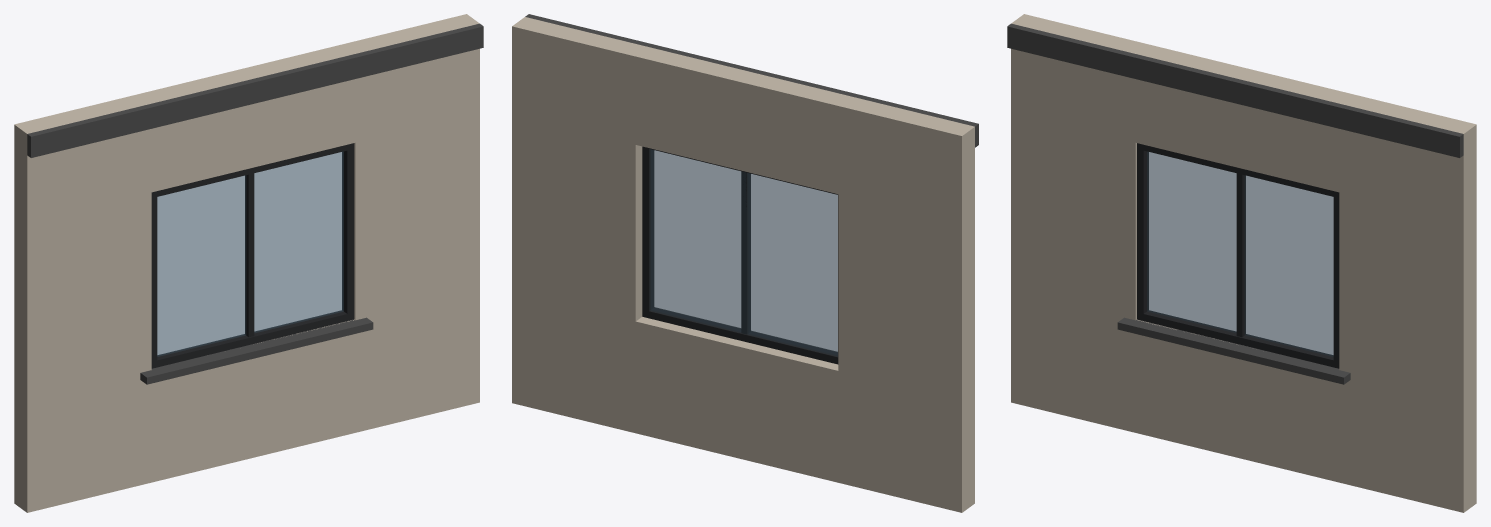
Rendered from KIT_Wall_4m_Window_Plaster.glb.
3 views of the same model, side by side, from view 1: azimuth 30°, elevation 25°; view 2: azimuth 150°, elevation 25°; view 3: azimuth 330°, elevation 25° (orthographic).
Visible parts, largest first — view 1: KIT_Wall_4m_Window_Plaster; view 2: KIT_Wall_4m_Window_Plaster; view 3: KIT_Wall_4m_Window_Plaster.
Part boxes in pixels (x1=…): KIT_Wall_4m_Window_Plaster: x1=14, y1=14, x2=483, y2=512; KIT_Wall_4m_Window_Plaster: x1=512, y1=14, x2=978, y2=512; KIT_Wall_4m_Window_Plaster: x1=1007, y1=14, x2=1476, y2=512.
Bounding box in the file's own units: 4 × 3.2 × 0.3.
